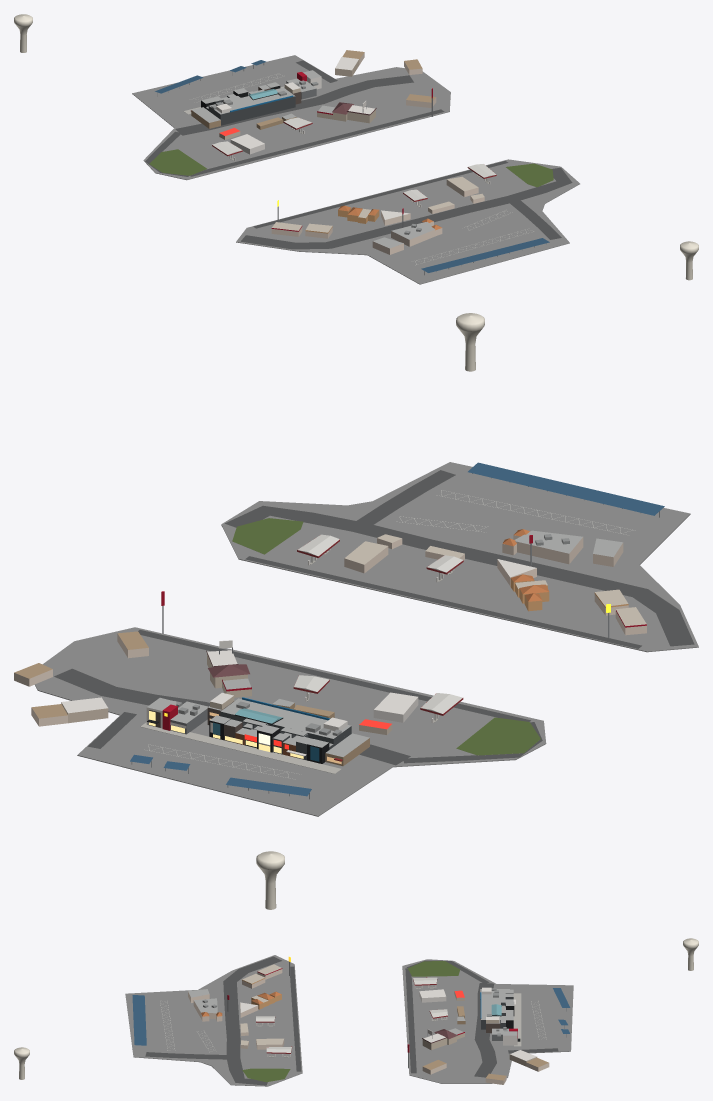
File: bhera_service_area.glb
3 renders of one model, top to bottom at view 1: azimuth 30°, elevation 25°; view 2: azimuth 150°, elevation 25°; view 3: azimuth 270°, elevation 25°, orthographic. The views are drawn at different scales.
Visible parts, largest first — view 1: m_apron, m_ring_road, m_roof_grey, m_wall_pink_cream, m_lawn, m_wall_white, m_solar_panel, m_wall_charcoal, m_wall_tan, m_roof_pale, m_water_tower, m_canopy_white (+1 smaller); view 2: m_apron, m_ring_road, m_roof_grey, m_lawn, m_wall_pink_cream, m_solar_panel, m_wall_white, m_water_tower, m_roof_pale, m_wall_tan, m_canopy_white, m_wall_cream (+2 smaller); view 3: m_apron, m_ring_road, m_roof_grey, m_lawn, m_wall_pink_cream, m_wall_white, m_solar_panel, m_roof_pale, m_water_tower, m_canopy_white, m_wall_cream, m_wall_tan (+1 smaller).
Part boxes in pixels (<box>): m_apron: <box>132,55,579,284</box>; m_ring_road: <box>145,60,572,249</box>; m_roof_grey: <box>192,70,434,248</box>; m_wall_pink_cream: <box>271,52,484,254</box>; m_lawn: <box>149,149,553,187</box>; m_wall_white: <box>216,57,490,219</box>; m_solar_panel: <box>155,60,549,272</box>; m_wall_charcoal: <box>206,93,295,125</box>; m_wall_tan: <box>191,50,435,129</box>; m_roof_pale: <box>272,176,484,232</box>; m_water_tower: <box>14,14,698,280</box>; m_canopy_white: <box>212,117,496,200</box>; m_apron: <box>35,462,698,816</box>; m_ring_road: <box>54,470,694,765</box>; m_roof_grey: <box>147,530,622,756</box>; m_lawn: <box>232,518,540,755</box>; m_wall_pink_cream: <box>14,535,646,726</box>; m_solar_panel: <box>130,462,664,796</box>; m_wall_white: <box>61,549,536,756</box>; m_water_tower: <box>256,313,484,909</box>; m_roof_pale: <box>345,534,646,626</box>; m_wall_tan: <box>14,631,369,766</box>; m_canopy_white: <box>294,534,463,713</box>; m_wall_cream: <box>61,654,392,734</box>; m_apron: <box>125,955,573,1086</box>; m_ring_road: <box>145,956,558,1085</box>; m_roof_grey: <box>188,989,517,1035</box>; m_lawn: <box>242,961,459,1082</box>; m_wall_pink_cream: <box>188,969,549,1084</box>; m_wall_white: <box>240,985,536,1060</box>; m_solar_panel: <box>132,988,570,1045</box>; m_roof_pale: <box>240,964,283,1045</box>; m_water_tower: <box>14,938,698,1079</box>; m_canopy_white: <box>256,977,447,1052</box>; m_wall_cream: <box>422,991,537,1066</box>; m_wall_tan: <box>423,1006,548,1080</box>.
Bounding box in the file's own units: 255 × 27.29 × 562.
